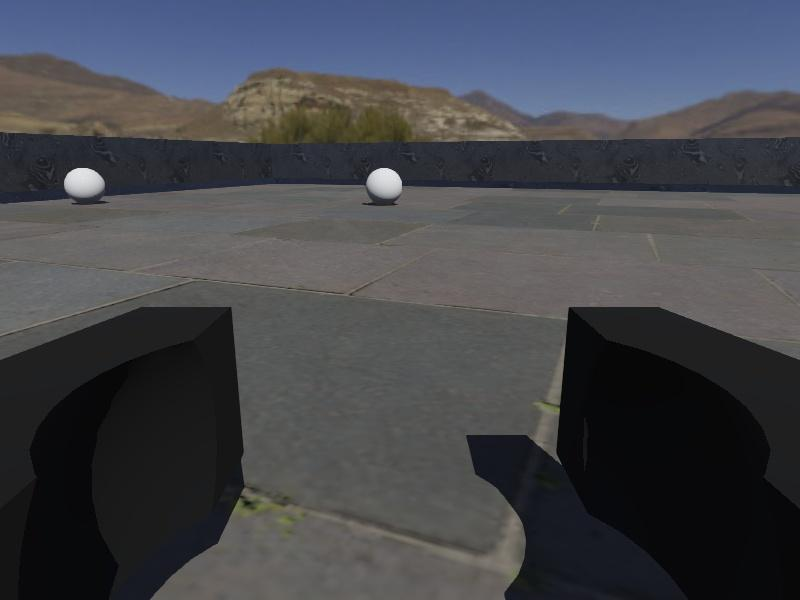white ball: (63, 165, 105, 205), (365, 166, 403, 205)
